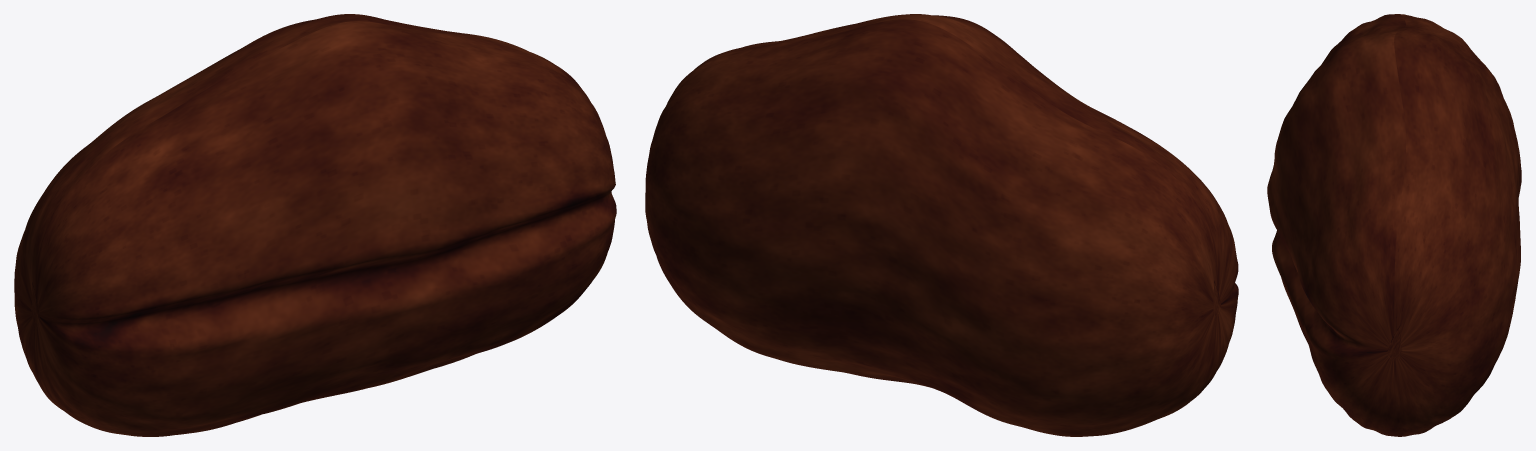
File: typica.glb
3 renders of one model, left to right at view 1: azimuth 30°, elevation 25°; view 2: azimuth 150°, elevation 25°; view 3: azimuth 270°, elevation 25°, orthographic. The views are drawn at different scales.
Parts seen in each view (by area): view 1: Cafe_typica; view 2: Cafe_typica; view 3: Cafe_typica.
Boxes of the visible parts, x1,y1,x2,y2 form: Cafe_typica: (14, 14, 616, 436); Cafe_typica: (645, 14, 1238, 436); Cafe_typica: (1267, 14, 1521, 436).
Bounding box in the file's own units: 0.0124 × 0.00788 × 0.00549.
1 material, 1 textured.
